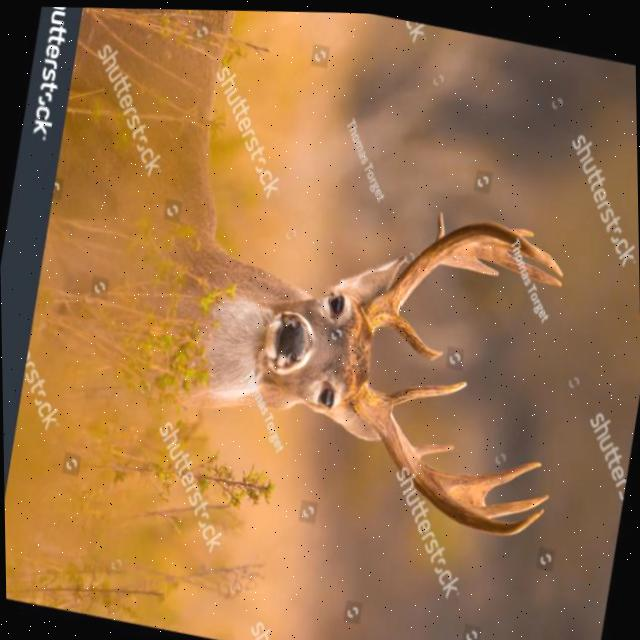E1: (435, 207, 444, 237)
L-F: (345, 376, 543, 531)
L-G1: (372, 376, 467, 410)
L-G2: (410, 439, 454, 455)
L-G3: (430, 457, 541, 502)
R-F: (359, 216, 559, 329)
R-G1: (381, 307, 442, 356)
